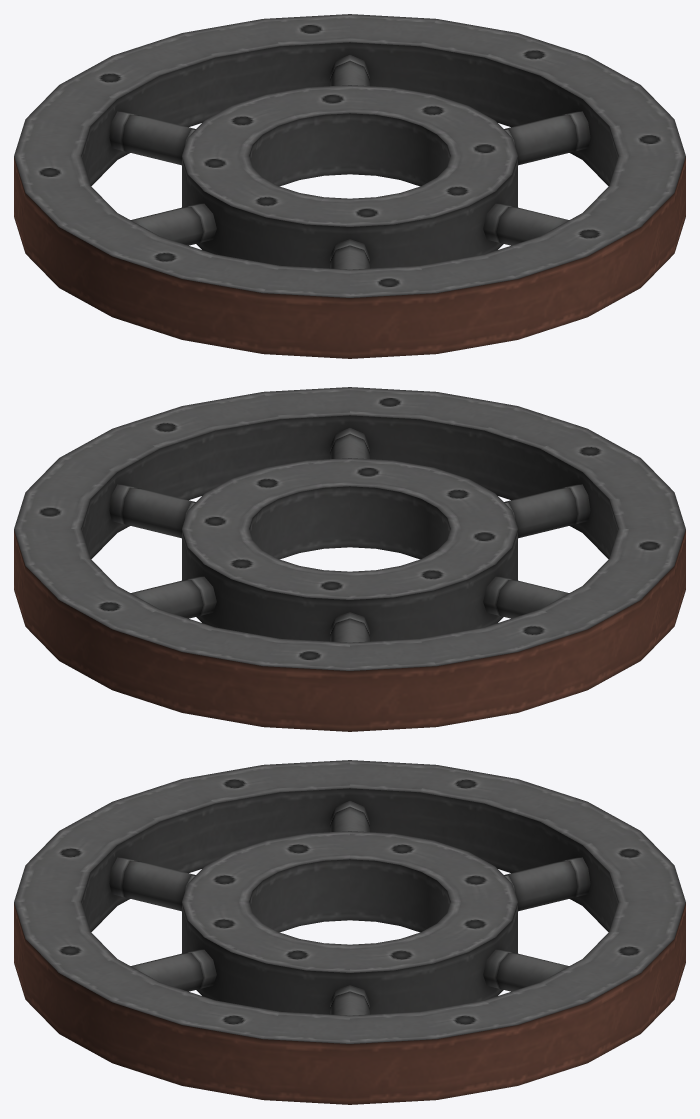
Rendered from canopus_fairing_s1_1.obj.
3 views of the same model, one above another, from view 1: azimuth 30°, elevation 25°; view 2: azimuth 150°, elevation 25°; view 3: azimuth 270°, elevation 25° (orthographic).
Parts seen in each view (by area): view 1: mesh1; view 2: mesh1; view 3: mesh1.
Boxes of the visible parts, <box> form: mesh1: <box>14,14,685,358</box>; mesh1: <box>14,387,685,731</box>; mesh1: <box>14,760,685,1104</box>.
Size of the model in its own units: 1.25 by 0.125 by 1.25.
Materials: 1 (1 with a texture image).
